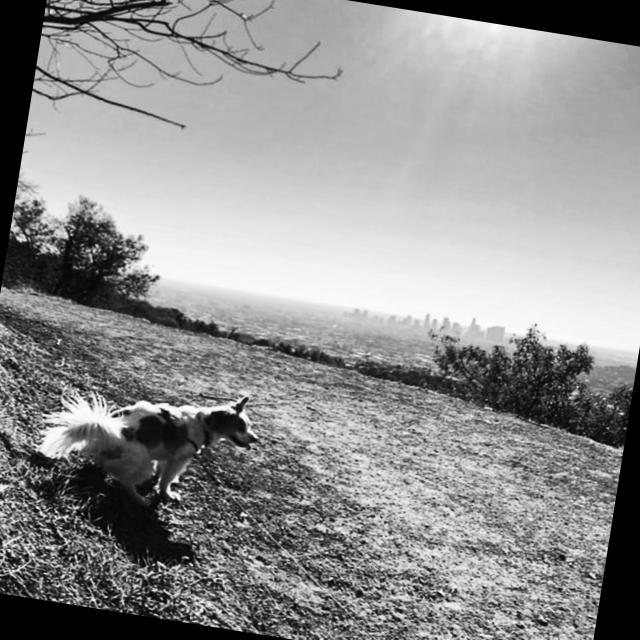squatting: (25, 362, 274, 526)
